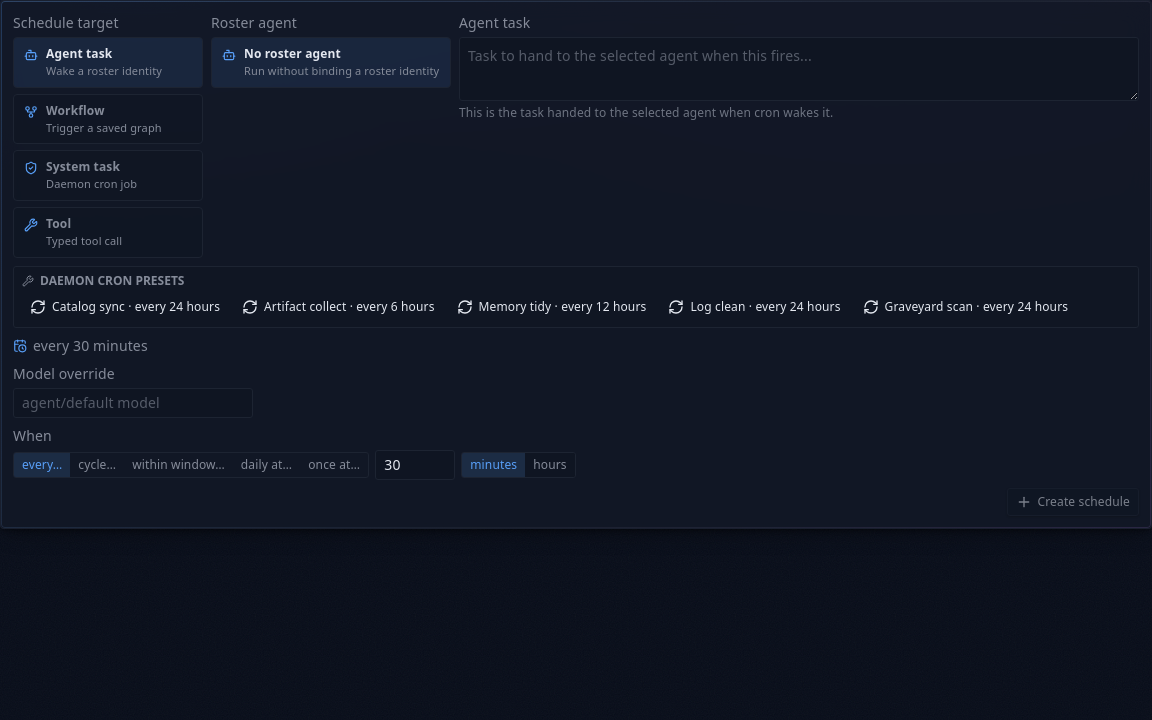
NewScheduleForm › disables Create until an agent task is entered
Expected: the button "Create schedule" is disabled, [1006,488,1139,516]
Type "Summarize runs" into the text box labelled "Agent task". click: x=799, y=69
box: [459,37,1139,101]
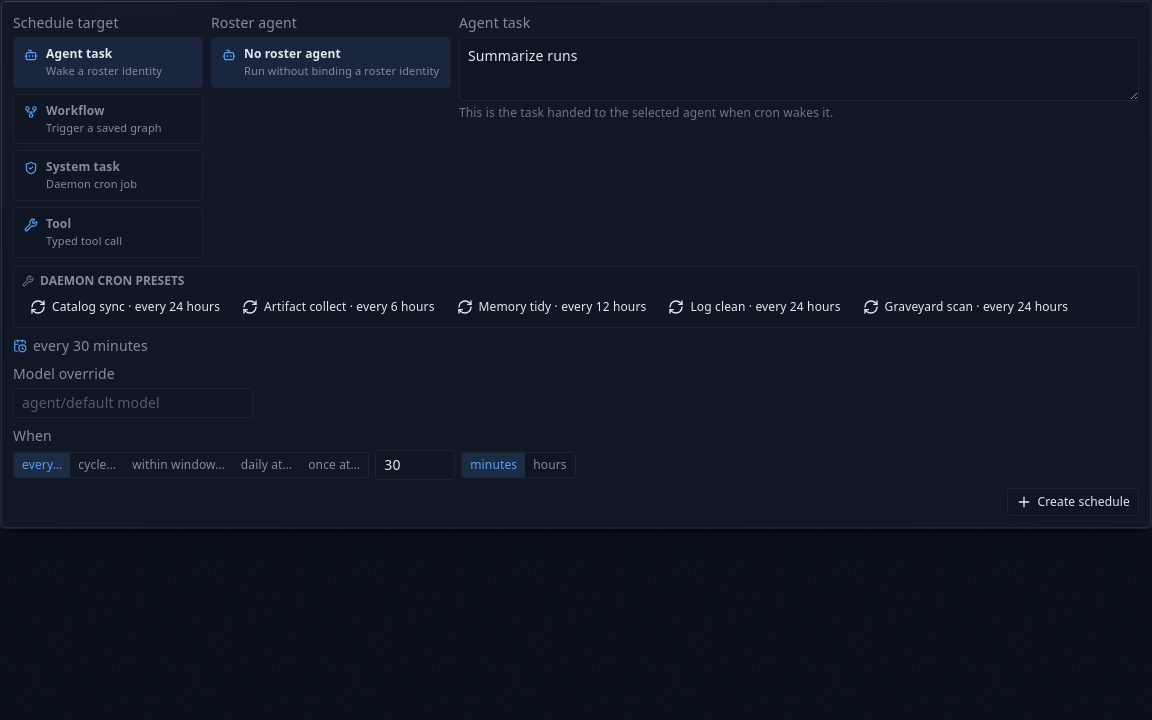
Now the button "Create schedule" is enabled, box [1006,488,1139,516]
